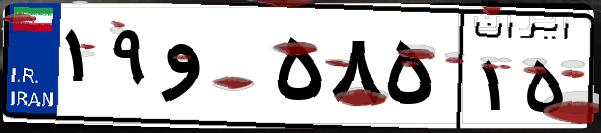1: (57, 26, 110, 100), (475, 38, 525, 113)
5: (270, 28, 330, 110), (385, 28, 445, 110), (525, 38, 570, 115)
8: (330, 28, 385, 110)
9: (110, 28, 158, 98)
و: (158, 20, 270, 120)
